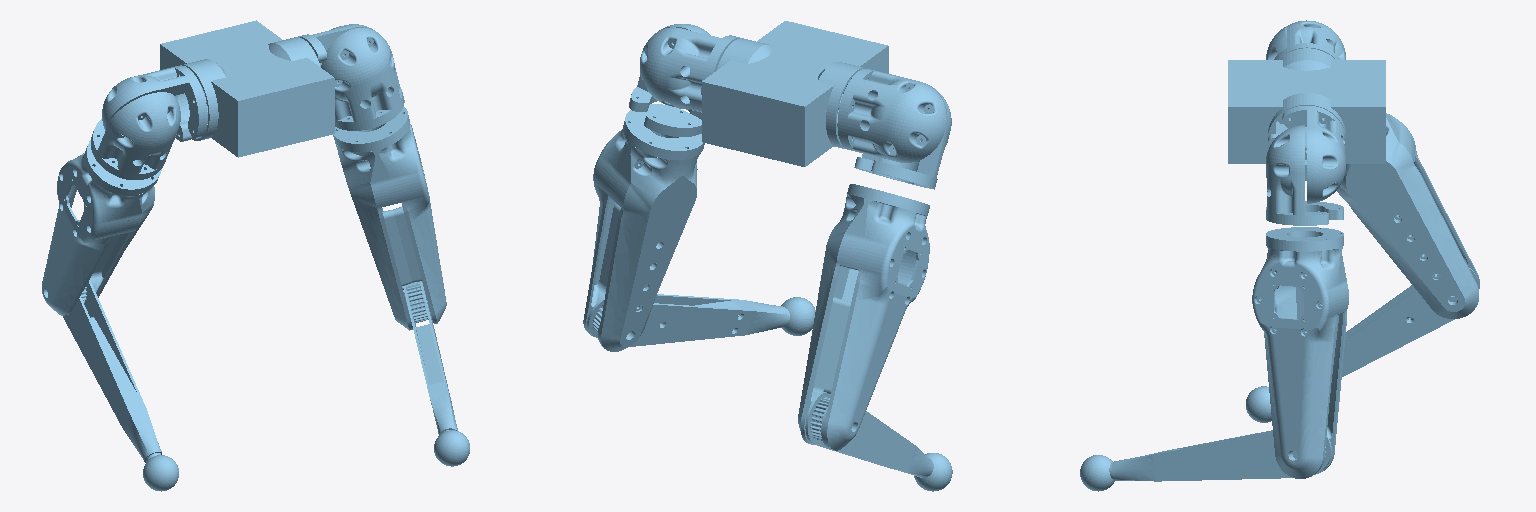
The robot description file, URDF, robot "robot":
<?xml version="1.0" ?>
<!-- Generated using onshape-to-robot -->
<!-- Onshape https://cad.onshape.com/documents/360c6fe247050cb2acb89595/w/0ec76884927e0d2c965064d4/e/8ad038c71909de84c50c460e -->
<robot name="robot">
  <!-- Link pelvis -->
  <link name="pelvis">
    <inertial>
      <origin xyz="0.000216195 -0.000649295 -0.000502195" rpy="0 0 0"/>
      <mass value="0.211284"/>
      <inertia ixx="0.000625526" ixy="-5.48372e-11" ixz="-2.17675e-10" iyy="0.000430078" iyz="-3.73841e-10" izz="0.000805235"/>
    </inertial>
    <!-- Part pelvis_lower -->
    <visual>
      <origin xyz="0.000216158 -0.000649359 -0.000502235" rpy="0 -0 0"/>
      <geometry>
        <mesh filename="package://assets/pelvis_lower.stl"/>
      </geometry>
      <material name="pelvis_lower_material">
        <color rgba="0.615686 0.811765 0.929412 1"/>
      </material>
    </visual>
    <collision>
      <origin xyz="0.000216158 -0.000649359 -0.000502235" rpy="0 -0 0"/>
      <geometry>
        <mesh filename="package://assets/pelvis_lower.stl"/>
      </geometry>
    </collision>
    <!-- Part pelvis_upper -->
    <visual>
      <origin xyz="0.000216158 -0.000649359 -0.000502235" rpy="0 -0 0"/>
      <geometry>
        <mesh filename="package://assets/pelvis_upper.stl"/>
      </geometry>
      <material name="pelvis_upper_material">
        <color rgba="0.615686 0.811765 0.929412 1"/>
      </material>
    </visual>
    <collision>
      <origin xyz="0.000216158 -0.000649359 -0.000502235" rpy="0 -0 0"/>
      <geometry>
        <mesh filename="package://assets/pelvis_upper.stl"/>
      </geometry>
    </collision>
  </link>
  <!-- Link l_shoulder_1 -->
  <link name="l_shoulder_1">
    <inertial>
      <origin xyz="0.0150409 0.000418622 -0.0361911" rpy="0 0 0"/>
      <mass value="0.1328"/>
      <inertia ixx="0.000134901" ixy="2.24108e-06" ixz="1.70356e-05" iyy="0.00011261" iyz="-1.62268e-06" izz="8.20386e-05"/>
    </inertial>
    <!-- Part shoulder -->
    <visual>
      <origin xyz="8.67362e-19 -3.25261e-19 -0.002" rpy="1.5708 -2.20919e-16 -1.5708"/>
      <geometry>
        <mesh filename="package://assets/shoulder.stl"/>
      </geometry>
      <material name="shoulder_material">
        <color rgba="0.615686 0.811765 0.929412 1"/>
      </material>
    </visual>
    <collision>
      <origin xyz="8.67362e-19 -3.25261e-19 -0.002" rpy="1.5708 -2.20919e-16 -1.5708"/>
      <geometry>
        <mesh filename="package://assets/shoulder.stl"/>
      </geometry>
    </collision>
  </link>
  <!-- Link l_shoulder_2 -->
  <link name="l_shoulder_2">
    <inertial>
      <origin xyz="-0.000418622 0.0183089 -0.0150409" rpy="0 0 0"/>
      <mass value="0.1328"/>
      <inertia ixx="0.00011261" ixy="1.62268e-06" ixz="2.24108e-06" iyy="8.20386e-05" iyz="-1.70356e-05" izz="0.000134901"/>
    </inertial>
    <!-- Part shoulder_2 -->
    <visual>
      <origin xyz="1.38778e-17 0.0525 0" rpy="-2.05377e-31 -3.54499e-31 5.59932e-18"/>
      <geometry>
        <mesh filename="package://assets/shoulder.stl"/>
      </geometry>
      <material name="shoulder_2_material">
        <color rgba="0.615686 0.811765 0.929412 1"/>
      </material>
    </visual>
    <collision>
      <origin xyz="1.38778e-17 0.0525 0" rpy="-2.05377e-31 -3.54499e-31 5.59932e-18"/>
      <geometry>
        <mesh filename="package://assets/shoulder.stl"/>
      </geometry>
    </collision>
  </link>
  <!-- Link l_thigh -->
  <link name="l_thigh">
    <inertial>
      <origin xyz="0.00177203 1.75905e-06 -0.0920004" rpy="0 0 0"/>
      <mass value="0.308571"/>
      <inertia ixx="0.00173378" ixy="-1.32373e-08" ixz="6.20201e-06" iyy="0.0017582" iyz="-2.38022e-08" izz="0.000264562"/>
    </inertial>
    <!-- Part thigh -->
    <visual>
      <origin xyz="1.38778e-17 6.93889e-18 -0.01" rpy="1.42548e-17 -2.86435e-17 3.2327e-17"/>
      <geometry>
        <mesh filename="package://assets/thigh.stl"/>
      </geometry>
      <material name="thigh_material">
        <color rgba="0.615686 0.811765 0.929412 1"/>
      </material>
    </visual>
    <collision>
      <origin xyz="1.38778e-17 6.93889e-18 -0.01" rpy="1.42548e-17 -2.86435e-17 3.2327e-17"/>
      <geometry>
        <mesh filename="package://assets/thigh.stl"/>
      </geometry>
    </collision>
    <!-- Part thigh_cover -->
    <visual>
      <origin xyz="-1.249e-16 1.45717e-16 -0.1225" rpy="1.5708 -3.41902e-16 -1.5708"/>
      <geometry>
        <mesh filename="package://assets/thigh_cover.stl"/>
      </geometry>
      <material name="thigh_cover_material">
        <color rgba="0.615686 0.811765 0.929412 1"/>
      </material>
    </visual>
    <collision>
      <origin xyz="-1.249e-16 1.45717e-16 -0.1225" rpy="1.5708 -3.41902e-16 -1.5708"/>
      <geometry>
        <mesh filename="package://assets/thigh_cover.stl"/>
      </geometry>
    </collision>
  </link>
  <!-- Link l_shin -->
  <link name="l_shin">
    <inertial>
      <origin xyz="8.63299e-17 0.111142 -0.009472" rpy="0 0 0"/>
      <mass value="0.14309"/>
      <inertia ixx="0.000865132" ixy="-2.38786e-19" ixz="9.92461e-12" iyy="1.70838e-05" iyz="2.32039e-07" izz="0.000870179"/>
    </inertial>
    <!-- Part shin_cover -->
    <visual>
      <origin xyz="-3.33067e-16 4.33681e-17 -0.0165" rpy="3.14159 -2.54525e-16 -6.96169e-15"/>
      <geometry>
        <mesh filename="package://assets/shin_cover.stl"/>
      </geometry>
      <material name="shin_cover_material">
        <color rgba="0.615686 0.811765 0.929412 1"/>
      </material>
    </visual>
    <collision>
      <origin xyz="-3.33067e-16 4.33681e-17 -0.0165" rpy="3.14159 -2.54525e-16 -6.96169e-15"/>
      <geometry>
        <mesh filename="package://assets/shin_cover.stl"/>
      </geometry>
    </collision>
    <!-- Part shin -->
    <visual>
      <origin xyz="-5.55112e-17 6.93889e-18 0" rpy="-3.14159 -8.99849e-18 -5.19499e-17"/>
      <geometry>
        <mesh filename="package://assets/shin.stl"/>
      </geometry>
      <material name="shin_material">
        <color rgba="0.615686 0.811765 0.929412 1"/>
      </material>
    </visual>
    <collision>
      <origin xyz="-5.55112e-17 6.93889e-18 0" rpy="-3.14159 -8.99849e-18 -5.19499e-17"/>
      <geometry>
        <mesh filename="package://assets/shin.stl"/>
      </geometry>
    </collision>
    <!-- Part foot -->
    <visual>
      <origin xyz="5.55112e-17 0.218564 -0.0095" rpy="1.5708 -1.5708 0"/>
      <geometry>
        <mesh filename="package://assets/foot.stl"/>
      </geometry>
      <material name="foot_material">
        <color rgba="0.615686 0.811765 0.929412 1"/>
      </material>
    </visual>
    <collision>
      <origin xyz="5.55112e-17 0.218564 -0.0095" rpy="1.5708 -1.5708 0"/>
      <geometry>
        <mesh filename="package://assets/foot.stl"/>
      </geometry>
    </collision>
  </link>
  <!-- Frame l_foot (dummy link + fixed joint) -->
  <link name="l_foot">
    <origin xyz="0 0 0" rpy="0 -0 0"/>
    <inertial>
      <origin xyz="0 0 0" rpy="0 0 0"/>
      <mass value="1e-9"/>
      <inertia ixx="0" ixy="0" ixz="0" iyy="0" iyz="0" izz="0"/>
    </inertial>
  </link>
  <joint name="l_foot_frame" type="fixed">
    <origin xyz="5.55112e-17 0.218564 -0.0095" rpy="1.5708 -1.5708 0"/>
    <parent link="l_shin"/>
    <child link="l_foot"/>
    <axis xyz="0 0 0"/>
  </joint>
  <!-- Joint from l_thigh to l_shin -->
  <joint name="l_knee" type="revolute">
    <origin xyz="0.0095 -1.66533e-16 -0.21" rpy="-1.5708 -1.39773 -1.5708"/>
    <parent link="l_thigh"/>
    <child link="l_shin"/>
    <axis xyz="0 0 1"/>
    <limit effort="10" velocity="10" lower="-1.35989" upper="4.15535"/>
  </joint>
  <!-- Joint from l_shoulder_2 to l_thigh -->
  <joint name="l_hip_ie" type="revolute">
    <origin xyz="0 0.0675 4.33681e-18" rpy="1.5708 0.417624 -8.86902e-16"/>
    <parent link="l_shoulder_2"/>
    <child link="l_thigh"/>
    <axis xyz="0 0 1"/>
    <limit effort="10" velocity="10" lower="-3.141592653589793" upper="3.141592653589793"/>
  </joint>
  <!-- Joint from l_shoulder_1 to l_shoulder_2 -->
  <joint name="l_hip_aa" type="revolute">
    <origin xyz="-0.002 5.08491e-17 -0.0545" rpy="-1.5708 1.31712 -1.5708"/>
    <parent link="l_shoulder_1"/>
    <child link="l_shoulder_2"/>
    <axis xyz="0 0 1"/>
    <limit effort="10" velocity="10" lower="-3.141592653589793" upper="3.141592653589793"/>
  </joint>
  <!-- Joint from pelvis to l_shoulder_1 -->
  <joint name="l_hip_fe" type="revolute">
    <origin xyz="0.0637162 -0.000649359 -0.000502235" rpy="-1.5708 -0 1.5708"/>
    <parent link="pelvis"/>
    <child link="l_shoulder_1"/>
    <axis xyz="0 0 1"/>
    <limit effort="10" velocity="10" lower="-6.28319" upper="0"/>
  </joint>
  <!-- Link r_shoulder_1 -->
  <link name="r_shoulder_1">
    <inertial>
      <origin xyz="0.0127339 0.00801567 -0.0361911" rpy="0 0 0"/>
      <mass value="0.1328"/>
      <inertia ixx="0.000127163" ixy="1.08459e-05" ixz="1.54899e-05" iyy="0.000120348" iyz="7.27381e-06" izz="8.20386e-05"/>
    </inertial>
    <!-- Part shoulder_3 -->
    <visual>
      <origin xyz="2.92735e-16 -2.88723e-16 -0.002" rpy="1.5708 1.04092e-15 -1.03681"/>
      <geometry>
        <mesh filename="package://assets/shoulder.stl"/>
      </geometry>
      <material name="shoulder_3_material">
        <color rgba="0.615686 0.811765 0.929412 1"/>
      </material>
    </visual>
    <collision>
      <origin xyz="2.92735e-16 -2.88723e-16 -0.002" rpy="1.5708 1.04092e-15 -1.03681"/>
      <geometry>
        <mesh filename="package://assets/shoulder.stl"/>
      </geometry>
    </collision>
  </link>
  <!-- Link r_shoulder_2 -->
  <link name="r_shoulder_2">
    <inertial>
      <origin xyz="-0.000418622 0.0183089 -0.0150409" rpy="0 0 0"/>
      <mass value="0.1328"/>
      <inertia ixx="0.00011261" ixy="1.62268e-06" ixz="2.24108e-06" iyy="8.20386e-05" iyz="-1.70356e-05" izz="0.000134901"/>
    </inertial>
    <!-- Part shoulder_4 -->
    <visual>
      <origin xyz="-1.38778e-17 0.0525 0" rpy="3.08204e-17 2.88676e-19 5.86289e-19"/>
      <geometry>
        <mesh filename="package://assets/shoulder.stl"/>
      </geometry>
      <material name="shoulder_4_material">
        <color rgba="0.615686 0.811765 0.929412 1"/>
      </material>
    </visual>
    <collision>
      <origin xyz="-1.38778e-17 0.0525 0" rpy="3.08204e-17 2.88676e-19 5.86289e-19"/>
      <geometry>
        <mesh filename="package://assets/shoulder.stl"/>
      </geometry>
    </collision>
  </link>
  <!-- Link r_thigh -->
  <link name="r_thigh">
    <inertial>
      <origin xyz="0.00177203 1.75905e-06 -0.0920004" rpy="0 0 0"/>
      <mass value="0.308571"/>
      <inertia ixx="0.00173378" ixy="-1.32373e-08" ixz="6.20201e-06" iyy="0.0017582" iyz="-2.38022e-08" izz="0.000264562"/>
    </inertial>
    <!-- Part thigh_cover_2 -->
    <visual>
      <origin xyz="3.60822e-16 9.62772e-17 -0.1225" rpy="1.5708 -3.87832e-16 -1.5708"/>
      <geometry>
        <mesh filename="package://assets/thigh_cover.stl"/>
      </geometry>
      <material name="thigh_cover_2_material">
        <color rgba="0.615686 0.811765 0.929412 1"/>
      </material>
    </visual>
    <collision>
      <origin xyz="3.60822e-16 9.62772e-17 -0.1225" rpy="1.5708 -3.87832e-16 -1.5708"/>
      <geometry>
        <mesh filename="package://assets/thigh_cover.stl"/>
      </geometry>
    </collision>
    <!-- Part thigh_2 -->
    <visual>
      <origin xyz="-1.38778e-17 -6.93889e-18 -0.01" rpy="7.73029e-17 -2.66957e-19 -5.85952e-21"/>
      <geometry>
        <mesh filename="package://assets/thigh.stl"/>
      </geometry>
      <material name="thigh_2_material">
        <color rgba="0.615686 0.811765 0.929412 1"/>
      </material>
    </visual>
    <collision>
      <origin xyz="-1.38778e-17 -6.93889e-18 -0.01" rpy="7.73029e-17 -2.66957e-19 -5.85952e-21"/>
      <geometry>
        <mesh filename="package://assets/thigh.stl"/>
      </geometry>
    </collision>
  </link>
  <!-- Link r_shin -->
  <link name="r_shin">
    <inertial>
      <origin xyz="1.27243e-16 -0.111142 0.009472" rpy="0 0 0"/>
      <mass value="0.14309"/>
      <inertia ixx="0.000865132" ixy="-5.22731e-19" ixz="-9.92461e-12" iyy="1.70838e-05" iyz="2.32039e-07" izz="0.000870179"/>
    </inertial>
    <!-- Part shin_cover_2 -->
    <visual>
      <origin xyz="0 -3.46945e-17 0.0165" rpy="-1.92271e-15 -5.16599e-16 1.97423e-15"/>
      <geometry>
        <mesh filename="package://assets/shin_cover.stl"/>
      </geometry>
      <material name="shin_cover_2_material">
        <color rgba="0.615686 0.811765 0.929412 1"/>
      </material>
    </visual>
    <collision>
      <origin xyz="0 -3.46945e-17 0.0165" rpy="-1.92271e-15 -5.16599e-16 1.97423e-15"/>
      <geometry>
        <mesh filename="package://assets/shin_cover.stl"/>
      </geometry>
    </collision>
    <!-- Part foot_2 -->
    <visual>
      <origin xyz="-5.55112e-17 -0.218564 0.0095" rpy="-1.5708 -1.5708 0"/>
      <geometry>
        <mesh filename="package://assets/foot.stl"/>
      </geometry>
      <material name="foot_2_material">
        <color rgba="0.615686 0.811765 0.929412 1"/>
      </material>
    </visual>
    <collision>
      <origin xyz="-5.55112e-17 -0.218564 0.0095" rpy="-1.5708 -1.5708 0"/>
      <geometry>
        <mesh filename="package://assets/foot.stl"/>
      </geometry>
    </collision>
    <!-- Part shin_2 -->
    <visual>
      <origin xyz="5.55112e-17 -2.08167e-17 -2.77556e-17" rpy="-9.96722e-19 -6.21353e-19 -5.2524e-17"/>
      <geometry>
        <mesh filename="package://assets/shin.stl"/>
      </geometry>
      <material name="shin_2_material">
        <color rgba="0.615686 0.811765 0.929412 1"/>
      </material>
    </visual>
    <collision>
      <origin xyz="5.55112e-17 -2.08167e-17 -2.77556e-17" rpy="-9.96722e-19 -6.21353e-19 -5.2524e-17"/>
      <geometry>
        <mesh filename="package://assets/shin.stl"/>
      </geometry>
    </collision>
  </link>
  <!-- Frame r_foot (dummy link + fixed joint) -->
  <link name="r_foot">
    <origin xyz="0 0 0" rpy="0 -0 0"/>
    <inertial>
      <origin xyz="0 0 0" rpy="0 0 0"/>
      <mass value="1e-9"/>
      <inertia ixx="0" ixy="0" ixz="0" iyy="0" iyz="0" izz="0"/>
    </inertial>
  </link>
  <joint name="r_foot_frame" type="fixed">
    <origin xyz="-5.55112e-17 -0.218564 0.0095" rpy="-1.5708 -1.5708 0"/>
    <parent link="r_shin"/>
    <child link="r_foot"/>
    <axis xyz="0 0 0"/>
  </joint>
  <!-- Joint from r_thigh to r_shin -->
  <joint name="r_knee" type="revolute">
    <origin xyz="0.0095 -2.64545e-16 -0.21" rpy="1.5708 1.50583 -1.5708"/>
    <parent link="r_thigh"/>
    <child link="r_shin"/>
    <axis xyz="0 0 1"/>
    <limit effort="10" velocity="10" lower="-1.25179" upper="4.26345"/>
  </joint>
  <!-- Joint from r_shoulder_2 to r_thigh -->
  <joint name="r_hip_ie" type="revolute">
    <origin xyz="-2.77556e-17 0.0675 2.73219e-17" rpy="-1.5708 -0.0205571 -3.14159"/>
    <parent link="r_shoulder_2"/>
    <child link="r_thigh"/>
    <axis xyz="0 0 1"/>
    <limit effort="10" velocity="10" lower="-3.141592653589793" upper="3.141592653589793"/>
  </joint>
  <!-- Joint from r_shoulder_1 to r_shoulder_2 -->
  <joint name="r_hip_aa" type="revolute">
    <origin xyz="-0.00172157 -0.00101794 -0.0545" rpy="1.5708 -1.56004 2.10478"/>
    <parent link="r_shoulder_1"/>
    <child link="r_shoulder_2"/>
    <axis xyz="0 0 1"/>
    <limit effort="10" velocity="10" lower="-3.141592653589793" upper="3.141592653589793"/>
  </joint>
  <!-- Joint from pelvis to r_shoulder_1 -->
  <joint name="r_hip_fe" type="revolute">
    <origin xyz="-0.0632838 -0.000649359 -0.000502235" rpy="1.5708 -0 1.5708"/>
    <parent link="pelvis"/>
    <child link="r_shoulder_1"/>
    <axis xyz="0 0 1"/>
    <limit effort="10" velocity="10" lower="-0.533985" upper="5.7492"/>
  </joint>
</robot>

--- Facts derived from the render (not from the file) ---
The picture shows the robot from 3 angles, left to right: view 1: azimuth 30°, elevation 25°; view 2: azimuth 150°, elevation 25°; view 3: azimuth 270°, elevation 25°; orthographic projection.
Model robot with 11 links and 10 joints (8 revolute, 2 fixed), rooted at pelvis, posed all joints at 0.
Visible links, largest first — view 1: pelvis, l_thigh, r_thigh, r_shin, l_shoulder_2, r_shoulder_2, l_shin, r_shoulder_1, l_shoulder_1; view 2: r_thigh, l_thigh, pelvis, r_shoulder_1, l_shin, l_shoulder_1, r_shin, r_shoulder_2, l_shoulder_2; view 3: l_thigh, pelvis, r_thigh, l_shin, r_shin, l_shoulder_2, l_shoulder_1, r_shoulder_1.
Link boxes in pixels (bbox=[...]): pelvis: bbox=[160, 20, 334, 157]; l_thigh: bbox=[333, 107, 446, 330]; r_thigh: bbox=[42, 140, 161, 315]; r_shin: bbox=[63, 280, 178, 491]; l_shoulder_2: bbox=[321, 28, 404, 130]; r_shoulder_2: bbox=[91, 92, 180, 179]; l_shin: bbox=[403, 281, 469, 466]; r_shoulder_1: bbox=[102, 65, 207, 141]; l_shoulder_1: bbox=[298, 24, 372, 81]; r_thigh: bbox=[798, 184, 929, 450]; l_thigh: bbox=[583, 104, 704, 351]; pelvis: bbox=[702, 21, 888, 166]; r_shoulder_1: bbox=[837, 69, 946, 162]; l_shin: bbox=[587, 294, 815, 346]; l_shoulder_1: bbox=[640, 27, 739, 112]; r_shin: bbox=[805, 392, 952, 491]; r_shoulder_2: bbox=[854, 85, 951, 189]; l_shoulder_2: bbox=[629, 24, 709, 136]; l_thigh: bbox=[1252, 227, 1348, 478]; pelvis: bbox=[1228, 48, 1385, 163]; r_thigh: bbox=[1337, 113, 1479, 318]; l_shin: bbox=[1080, 430, 1331, 491]; r_shin: bbox=[1246, 268, 1478, 422]; l_shoulder_2: bbox=[1266, 125, 1343, 225]; l_shoulder_1: bbox=[1268, 106, 1345, 203]; r_shoulder_1: bbox=[1274, 20, 1345, 59].
Size in the robot's own frame: 0.3714 by 0.3811 by 0.4181 metres.
Meshes: 8 distinct files referenced, 16 mesh visuals loaded (8 binary STL).
